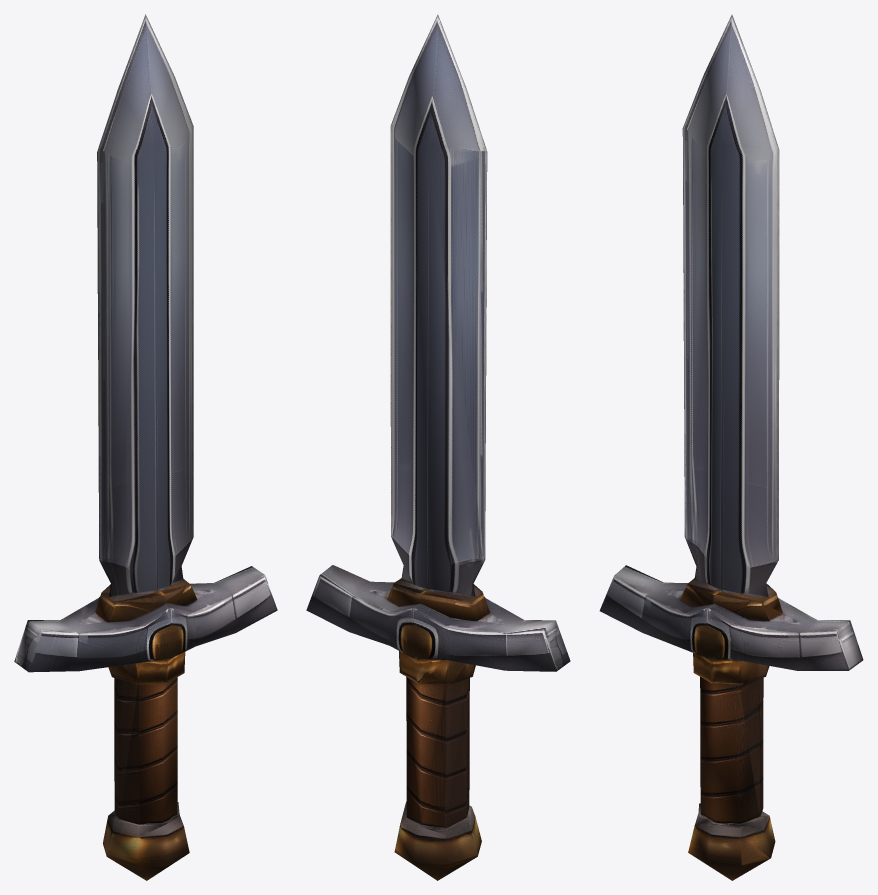
The model's file is Meshy_AI_Azurecrest_Longsword_0717165153_texture.fbx.
3 views of the same model, side by side, from view 1: azimuth 30°, elevation 25°; view 2: azimuth 150°, elevation 25°; view 3: azimuth 330°, elevation 25° (orthographic).
Parts seen in each view (by area): view 1: Mesh_0; view 2: Mesh_0; view 3: Mesh_0.
Boxes of the visible parts, x1=… form: Mesh_0: x1=14, y1=14, x2=277, y2=880; Mesh_0: x1=306, y1=14, x2=570, y2=880; Mesh_0: x1=599, y1=14, x2=863, y2=880.
Size of the model in its own units: 29.98 by 99.61 by 10.33.
1 material, 1 textured.
